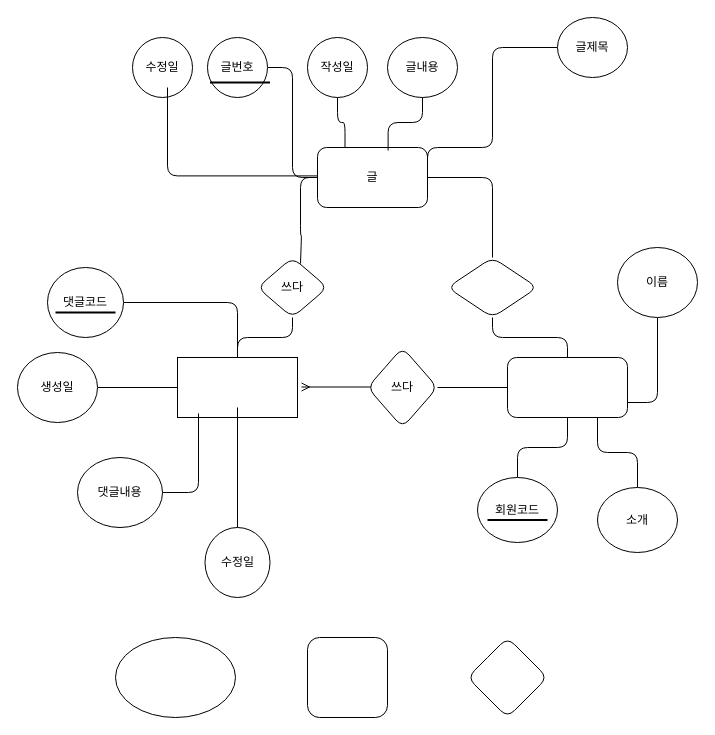
This 715x735 diagram has some shape labels left out. Each missing label, with the centre of its shape:
Attribute: (175,677)
Entity: (347,677)
Relation: (507,677)
댓글: (237,387)
소속: (492,287)
회원: (567,387)
